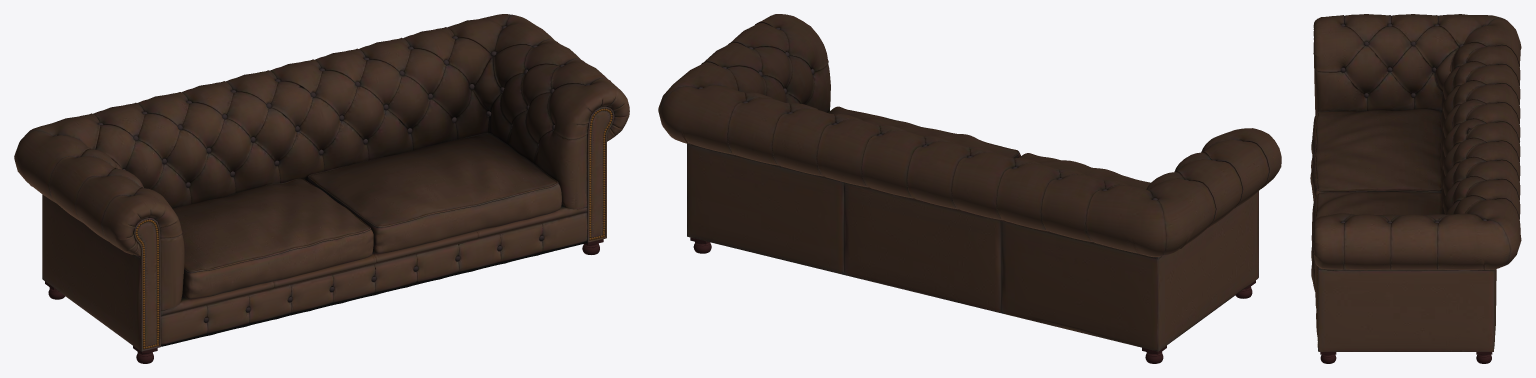
Rendered from leather.glb.
3 views of the same model, side by side, from view 1: azimuth 30°, elevation 25°; view 2: azimuth 150°, elevation 25°; view 3: azimuth 270°, elevation 25° (orthographic). The views are drawn at different scales.
Visible parts, largest first — view 1: pasted__sofabody2_pasted__sofabody2Shape_bakedmtl2_0, pasted__sodametals_pasted__coopermat1_0, pasted__sofabuttons_pasted__buttonsmat1_0, pasted__sofalegs_pasted__sofalegsShape_bakedmtl2_0; view 2: pasted__sofabody2_pasted__sofabody2Shape_bakedmtl2_0, pasted__sofalegs_pasted__sofalegsShape_bakedmtl2_0; view 3: pasted__sofabody2_pasted__sofabody2Shape_bakedmtl2_0, pasted__sofalegs_pasted__sofalegsShape_bakedmtl2_0, pasted__sofabuttons_pasted__buttonsmat1_0.
Part boxes in pixels (x1,y1,x2,y2): pasted__sofabody2_pasted__sofabody2Shape_bakedmtl2_0: (14, 14, 629, 351); pasted__sodametals_pasted__coopermat1_0: (135, 108, 612, 349); pasted__sofabuttons_pasted__buttonsmat1_0: (54, 26, 589, 322); pasted__sofalegs_pasted__sofalegsShape_bakedmtl2_0: (45, 239, 603, 363); pasted__sofabody2_pasted__sofabody2Shape_bakedmtl2_0: (658, 14, 1281, 351); pasted__sofalegs_pasted__sofalegsShape_bakedmtl2_0: (690, 237, 1255, 363); pasted__sofabody2_pasted__sofabody2Shape_bakedmtl2_0: (1310, 14, 1521, 351); pasted__sofalegs_pasted__sofalegsShape_bakedmtl2_0: (1320, 352, 1492, 363); pasted__sofabuttons_pasted__buttonsmat1_0: (1341, 24, 1489, 222).
Bounding box in the file's own units: 4.12 × 1.26 × 1.63.
4 materials, 1 textured.
